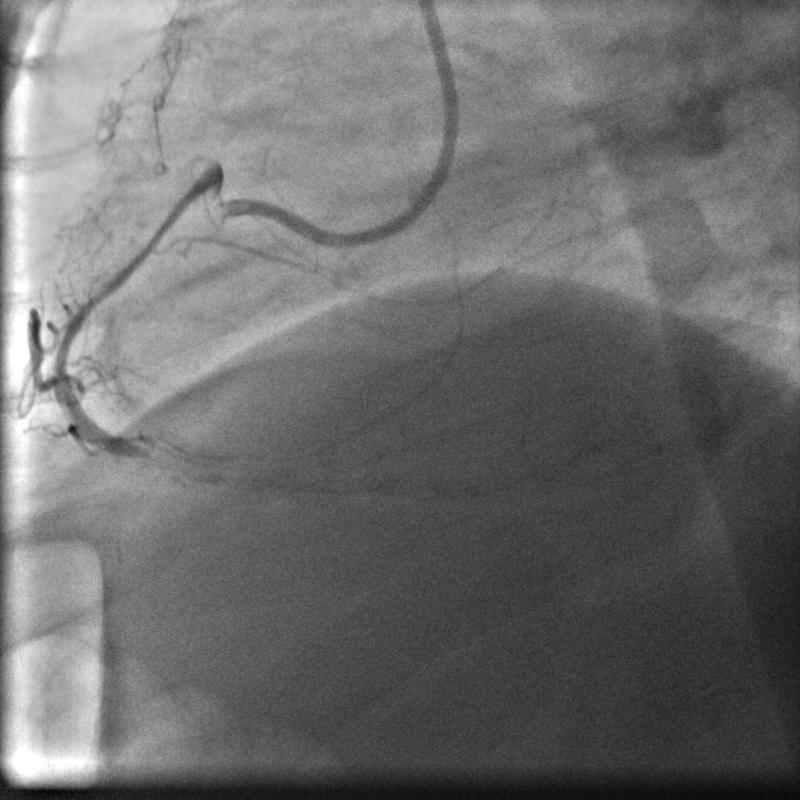Stenosis: (116, 433, 182, 470)
